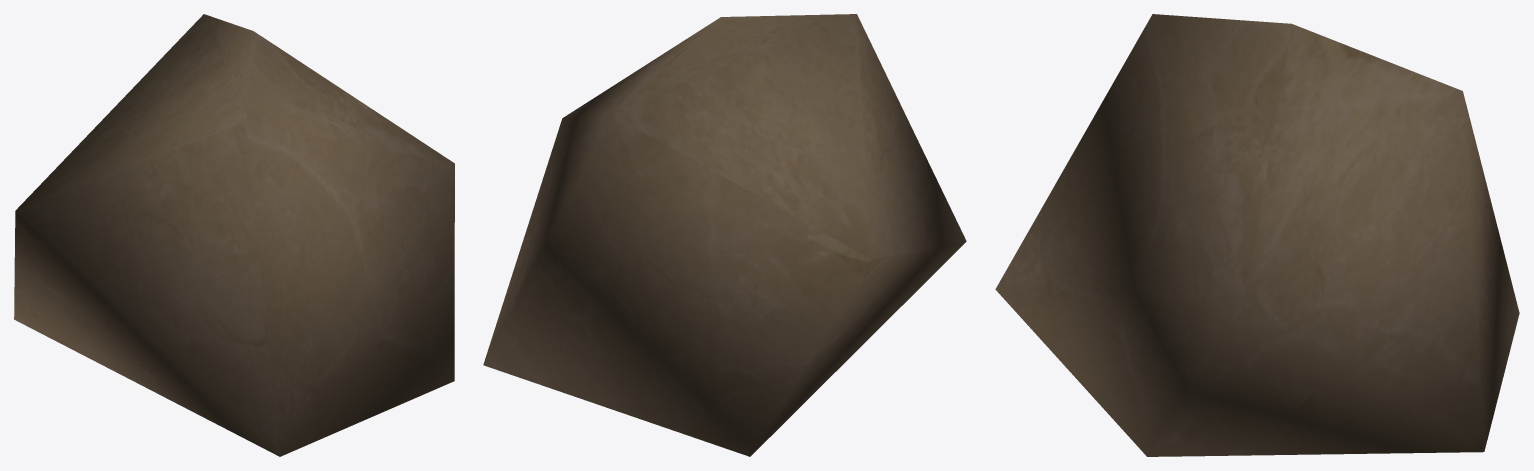
File: stone_dune_d1.obj
The picture shows the model from 3 angles, left to right: view 1: azimuth 30°, elevation 25°; view 2: azimuth 150°, elevation 25°; view 3: azimuth 270°, elevation 25°; orthographic projection. The views are drawn at different scales.
Parts seen in each view (by area): view 1: stone_stone_stone; view 2: stone_stone_stone; view 3: stone_stone_stone.
Boxes of the visible parts, x1=… form: stone_stone_stone: x1=14, y1=14, x2=454, y2=456; stone_stone_stone: x1=483, y1=14, x2=966, y2=456; stone_stone_stone: x1=995, y1=14, x2=1519, y2=456.
Bounding box in the file's own units: 1.7 × 1.45 × 1.9.
Materials: 1 (1 with a texture image).
